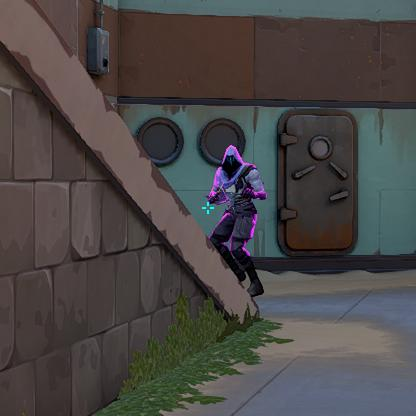enemyBody: (228, 175, 247, 207)
enemyHead: (225, 154, 238, 168)
